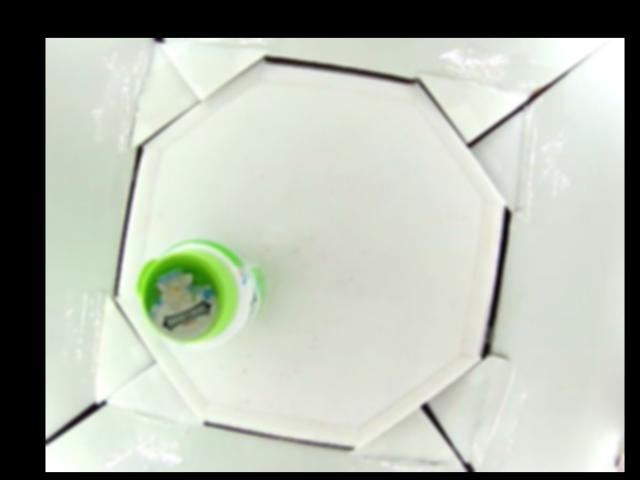Bottle: (133, 240, 266, 348)
